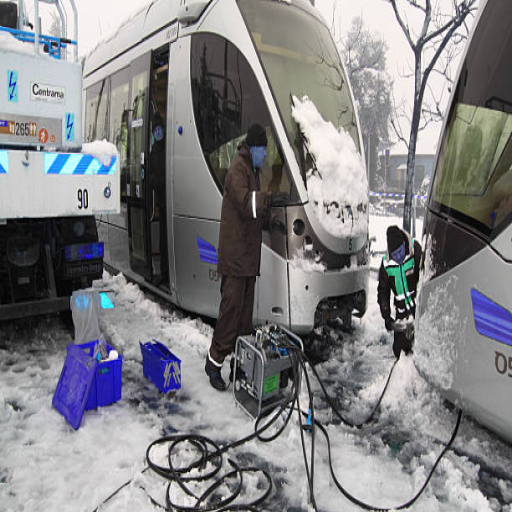portable_generator: (233, 324, 306, 417)
